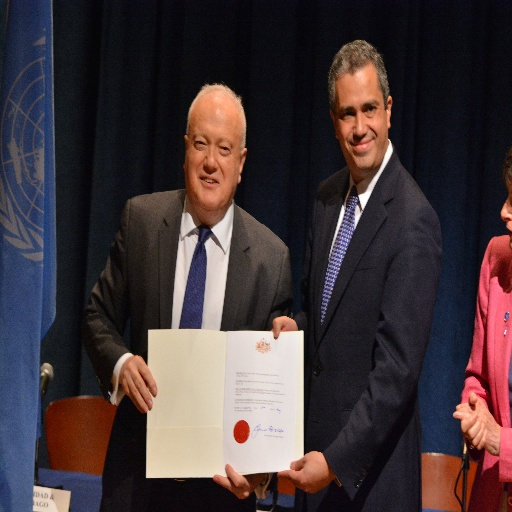hand: (276, 449, 335, 495), (117, 353, 157, 415), (211, 461, 265, 500), (458, 389, 489, 454), (270, 314, 298, 340)
